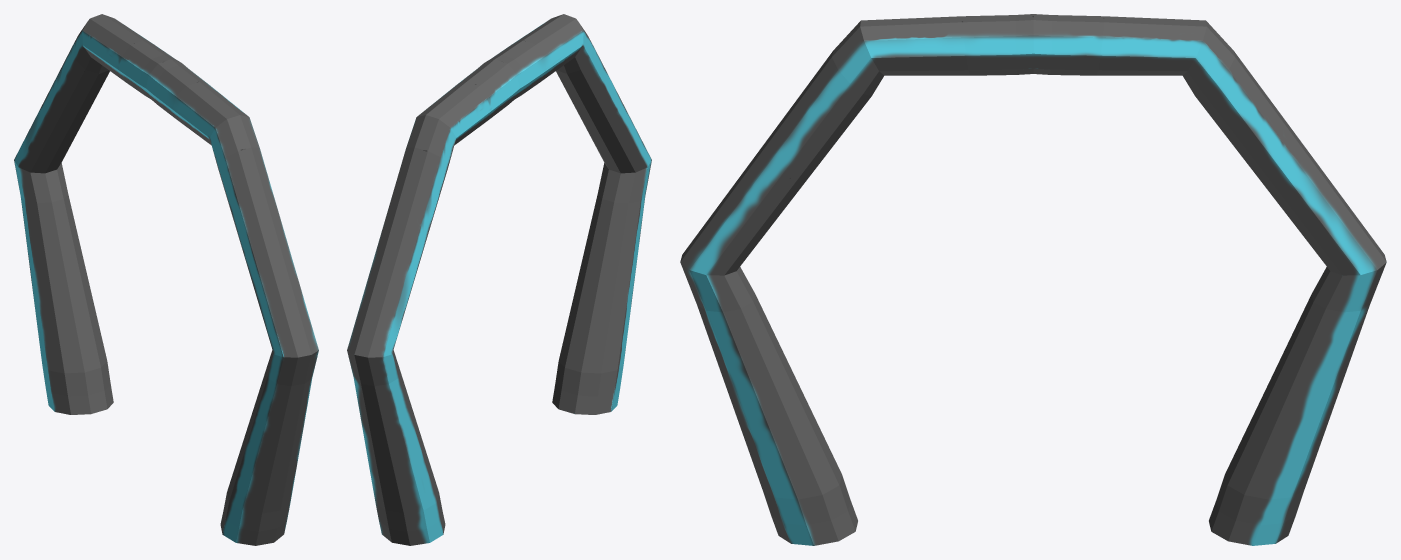
File: Door2.fbx
3 views of the same model, side by side, from view 1: azimuth 30°, elevation 25°; view 2: azimuth 150°, elevation 25°; view 3: azimuth 270°, elevation 25° (orthographic). The views are drawn at different scales.
Visible parts, largest first — view 1: Roundcube; view 2: Roundcube; view 3: Roundcube.
Part boxes in pixels (x1,y1,x2,y2): Roundcube: (14, 14, 318, 545); Roundcube: (347, 14, 651, 545); Roundcube: (680, 14, 1386, 545).
Bounding box in the file's own units: 39.94 × 278 × 346.
1 material, 1 textured.
